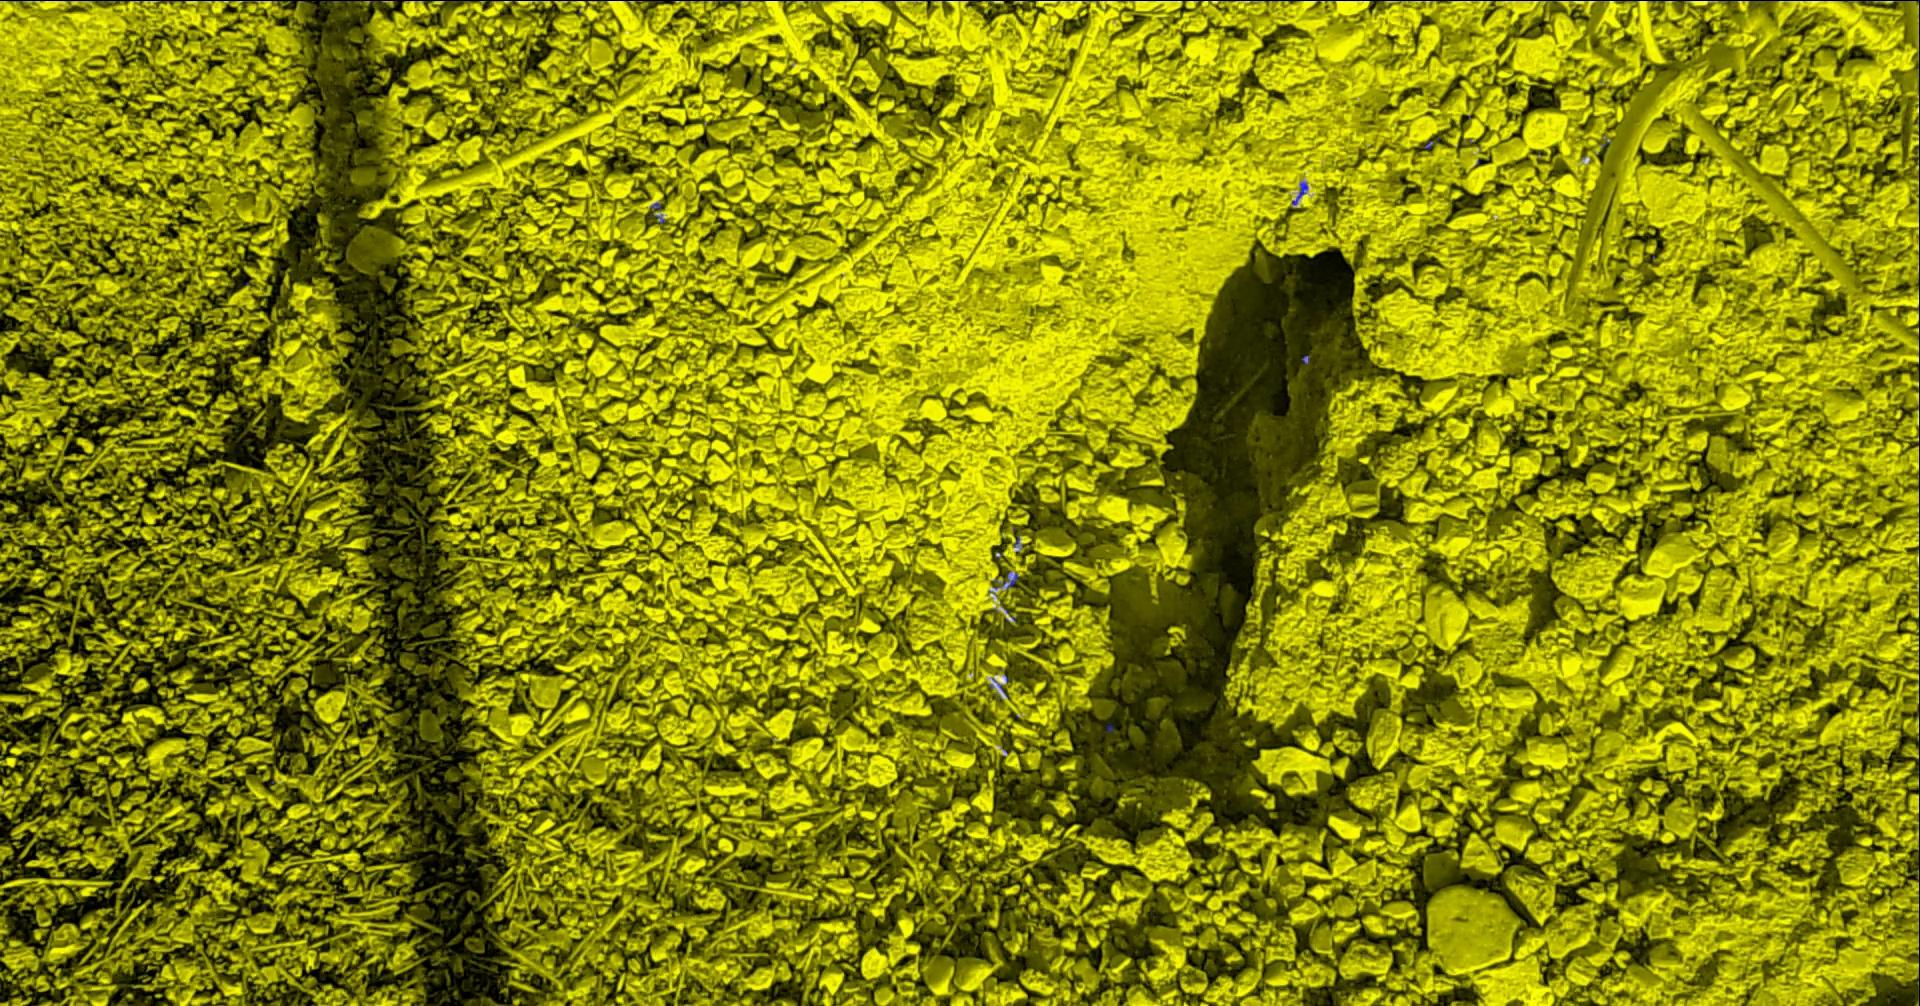ant: (1293, 180, 1309, 205), (999, 572, 1020, 589)
